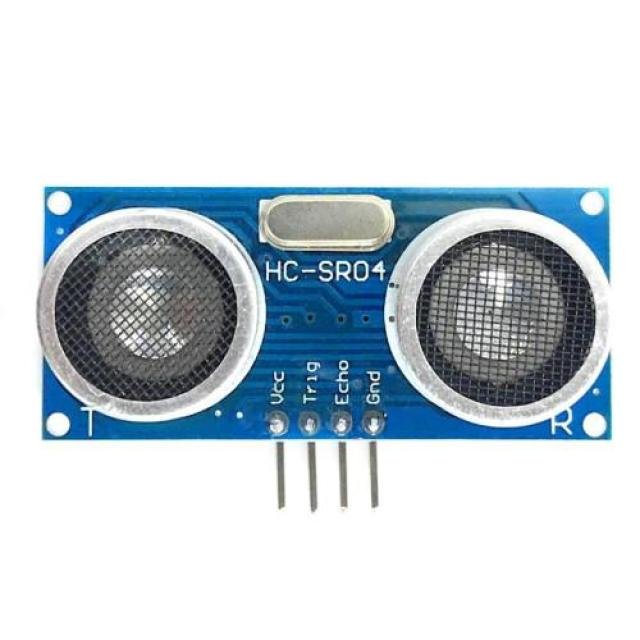Ultrasonic Sensor: (22, 174, 623, 510)
